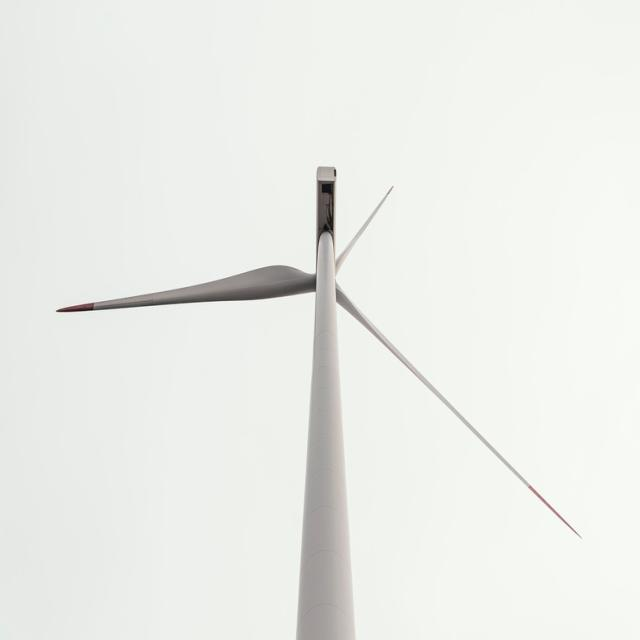solid-blade: (336, 285, 574, 531), (59, 265, 316, 310)
